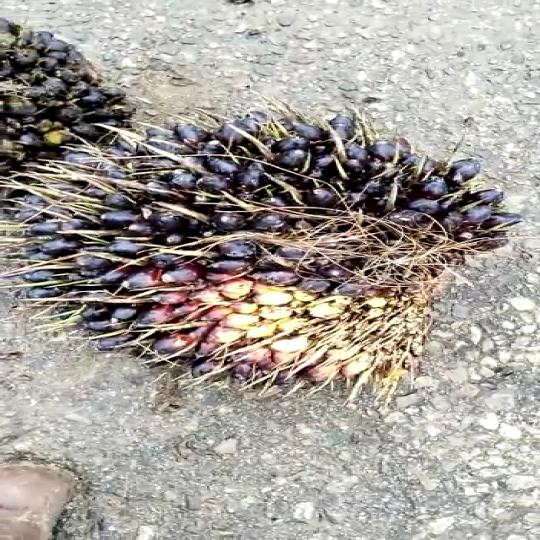mentah: (0, 117, 534, 416)
